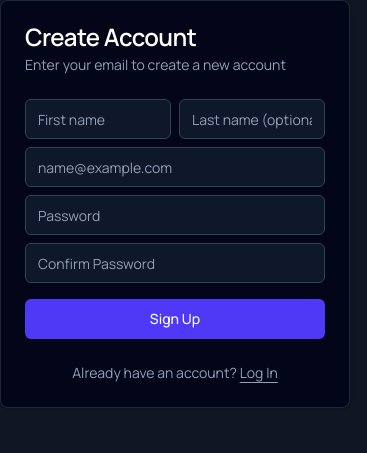
Test: RegisterForm › rejects passwords that do not match
In the field with placeholder "First name": (98, 119) [25,99,171,139], type "Ana"
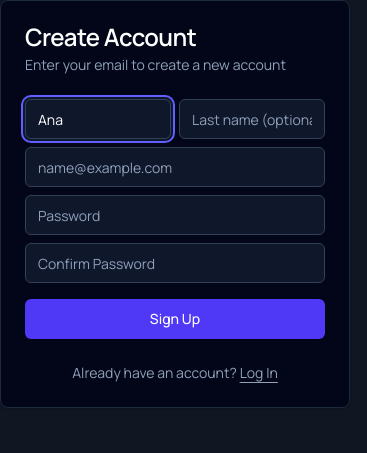
In the field with placeholder "name@example.com": (175, 167) [25,147,325,187], type "ana@example.com"
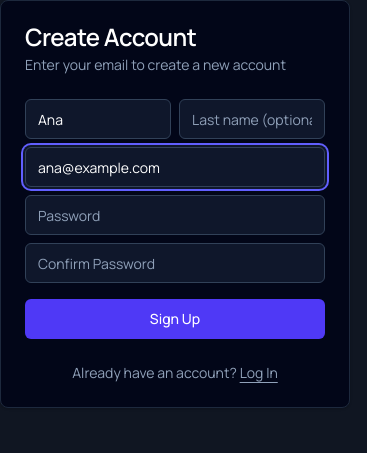
In the password field with placeholder "Password": (175, 215) [25,195,325,235], type "long-password-123"
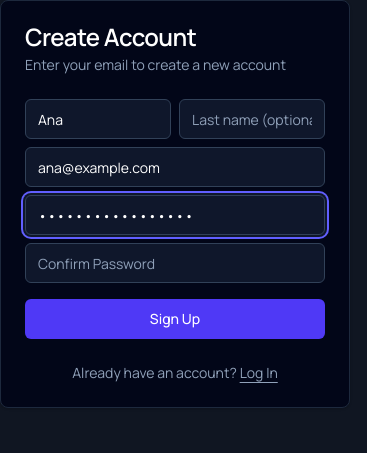
In the password field with placeholder "Confirm Password": (175, 263) [25,243,325,283], type "long-password-124"
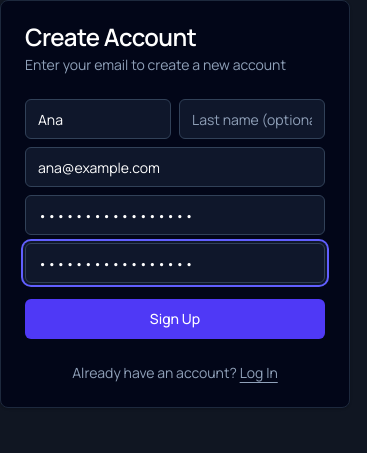
Click the button "Sign Up": (175, 319) [25,299,325,339]
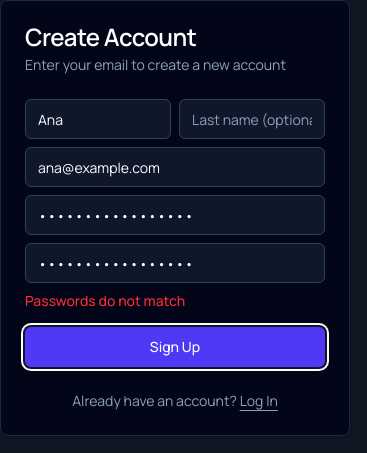
Check: the text "Passwords do not match" is shown, box [25,291,185,310]
